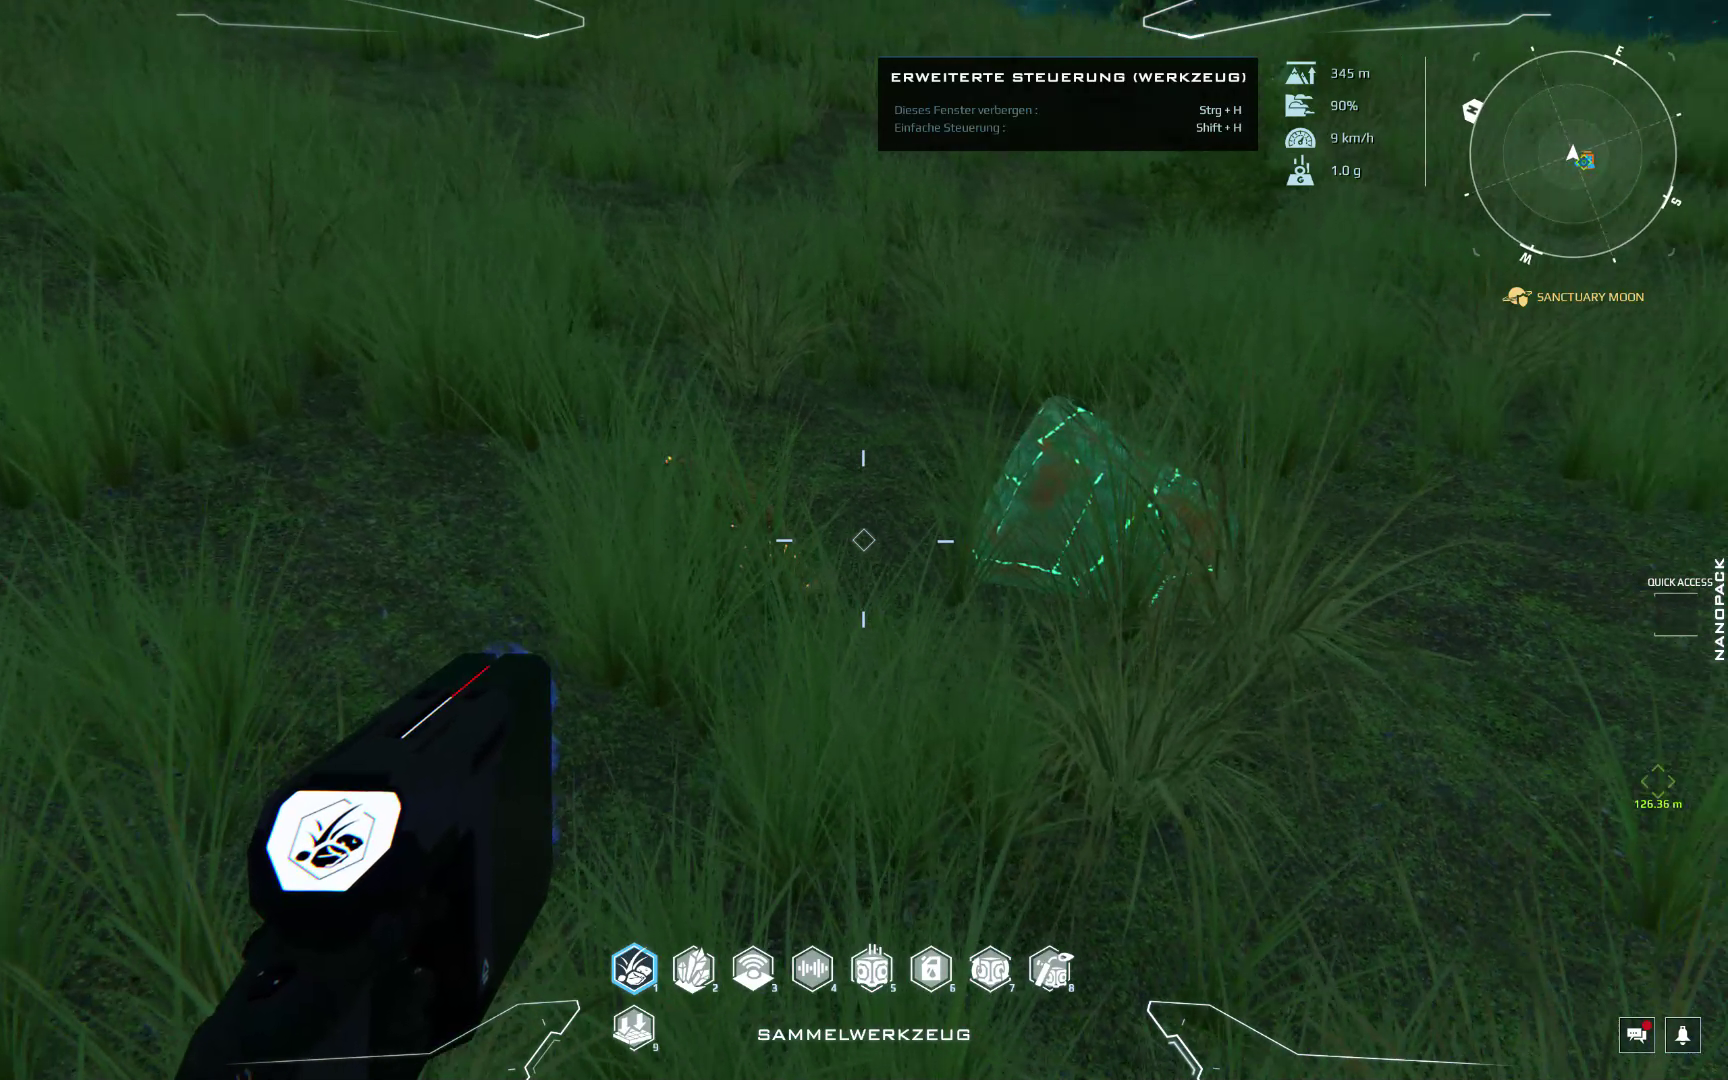Ore: (965, 394, 1244, 612), (663, 449, 843, 628)
